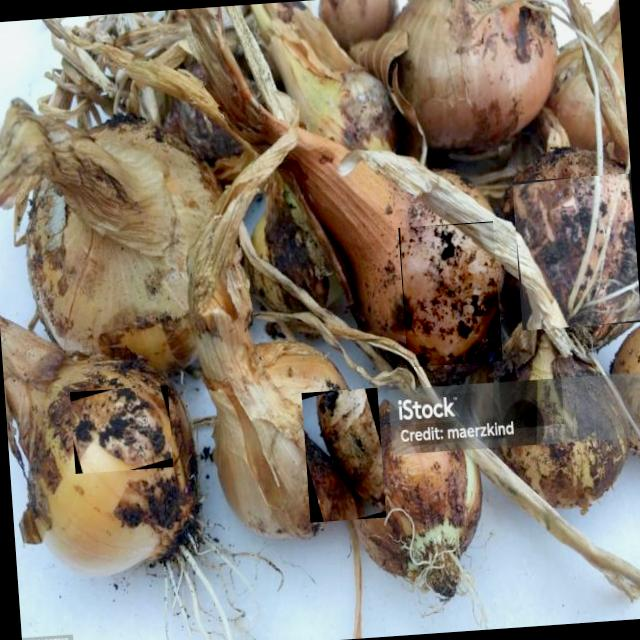mould: (512, 173, 640, 330), (398, 221, 502, 367), (301, 387, 386, 522), (70, 384, 172, 474)
